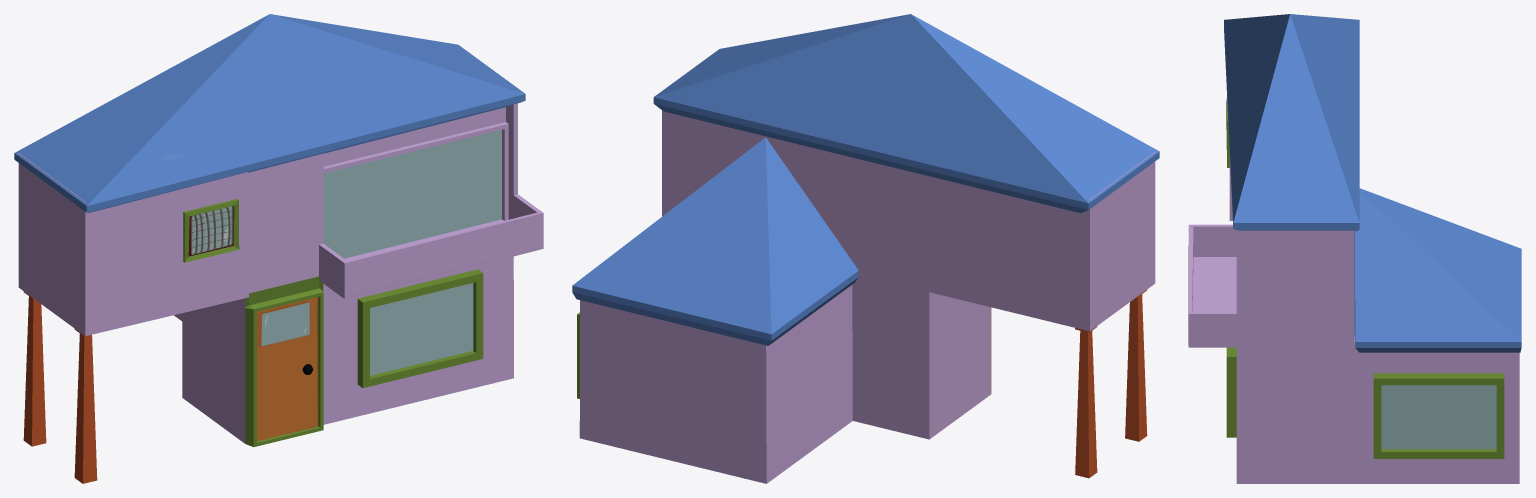
The model's file is houseindiarich_NaomiJongsma1.fbx.
3 views of the same model, side by side, from view 1: azimuth 30°, elevation 25°; view 2: azimuth 150°, elevation 25°; view 3: azimuth 270°, elevation 25° (orthographic). The views are drawn at different scales.
Parts seen in each view (by area): view 1: house; view 2: house; view 3: house.
Part boxes in pixels (x1,y1,x2,y2): house: (14,14,543,483); house: (572,14,1159,483); house: (1188,14,1521,483).
Size of the model in its own units: 1086 by 928 by 751.
Materials: 1 (1 with a texture image).
